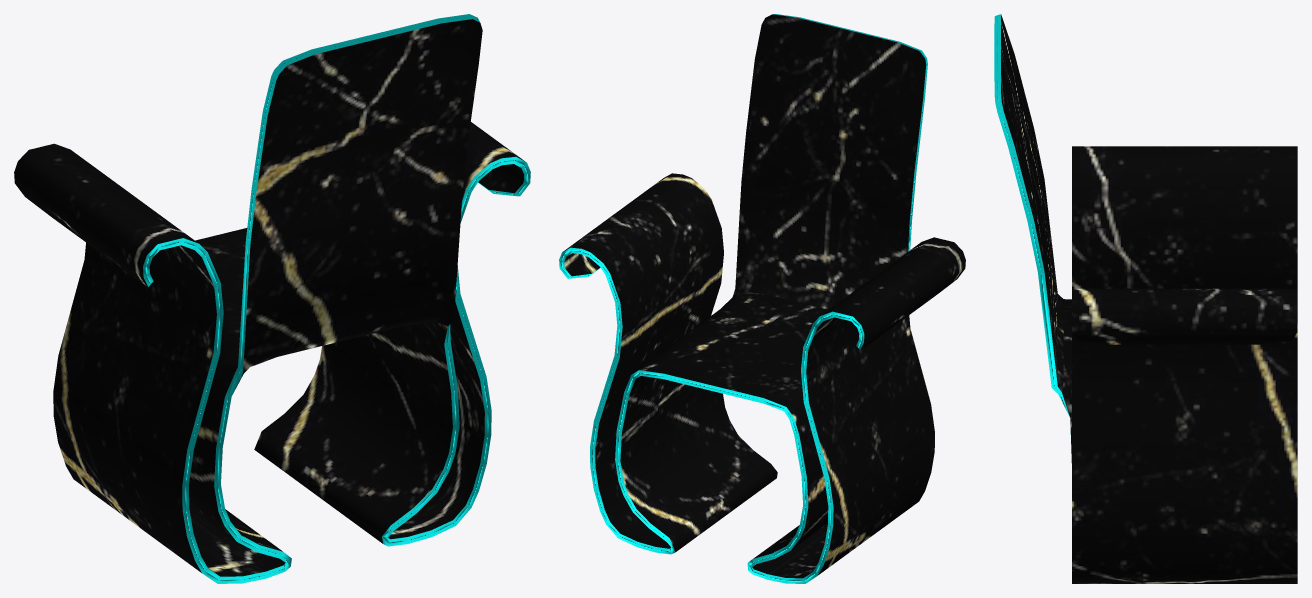
File: FUR0310003.fbx
3 renders of one model, left to right at view 1: azimuth 30°, elevation 25°; view 2: azimuth 150°, elevation 25°; view 3: azimuth 270°, elevation 25°, orthographic. The views are drawn at different scales.
Parts seen in each view (by area): view 1: smFUR0310003; view 2: smFUR0310003; view 3: smFUR0310003.
Boxes of the visible parts, x1=… form: smFUR0310003: x1=14, y1=14, x2=530, y2=583; smFUR0310003: x1=559, y1=14, x2=965, y2=583; smFUR0310003: x1=994, y1=14, x2=1297, y2=583.
Bounding box in the file's own units: 99.55 × 137 × 76.95.
Materials: 1 (1 with a texture image).
